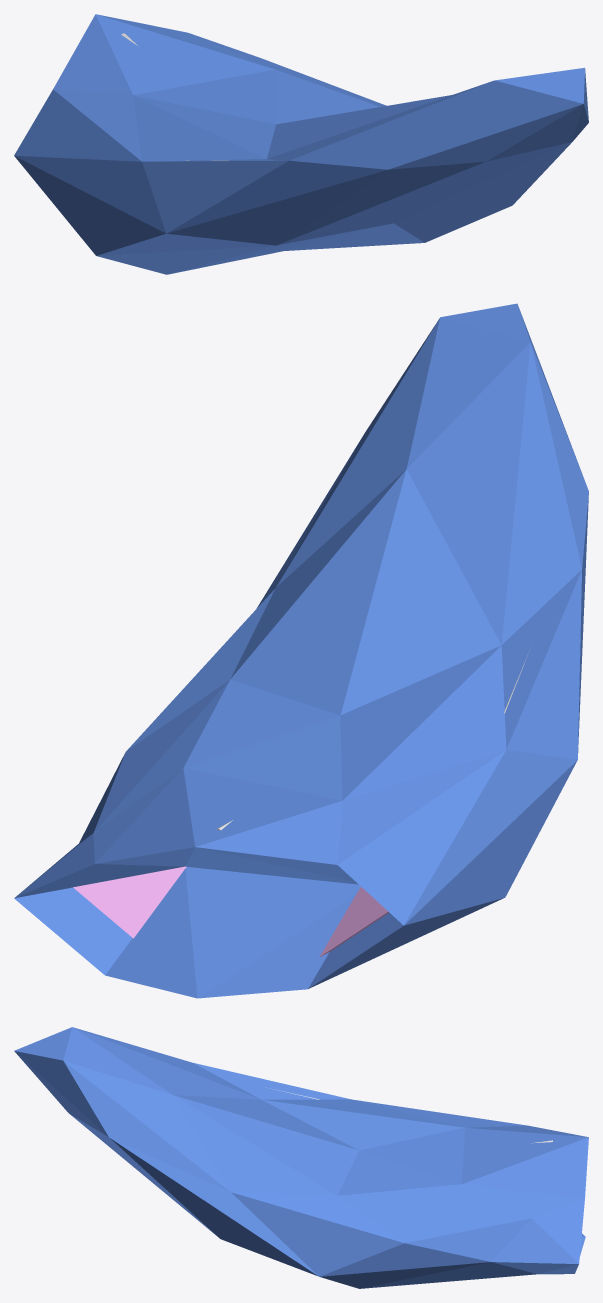
File: beroeforskalii.glb
3 renders of one model, top to bottom at view 1: azimuth 30°, elevation 25°; view 2: azimuth 150°, elevation 25°; view 3: azimuth 270°, elevation 25°, orthographic. The views are drawn at different scales.
Parts seen in each view (by area): view 1: Icosphere.001; view 2: Icosphere.001; view 3: Icosphere.001.
Part boxes in pixels (bbox=[...]): Icosphere.001: bbox=[14, 14, 588, 274]; Icosphere.001: bbox=[14, 303, 588, 998]; Icosphere.001: bbox=[14, 1027, 588, 1288].
Bounding box in the file's own units: 1.06 × 0.9731 × 2.12.
